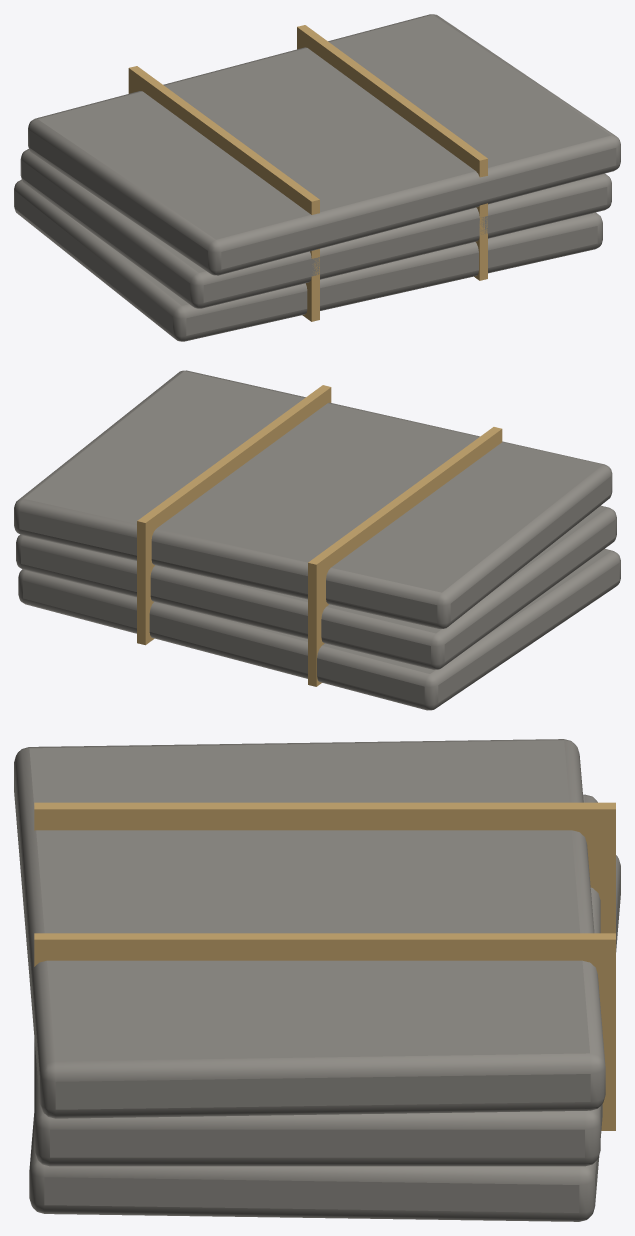
File: item_newspapers.fbx
The picture shows the model from 3 angles, top to bottom: view 1: azimuth 30°, elevation 25°; view 2: azimuth 150°, elevation 25°; view 3: azimuth 270°, elevation 25°; orthographic projection. The views are drawn at different scales.
Visible parts, largest first — view 1: item_newspapers; view 2: item_newspapers; view 3: item_newspapers.
Part boxes in pixels (x1,y1,x2,y2): item_newspapers: (14,14,620,341); item_newspapers: (14,370,620,710); item_newspapers: (14,739,620,1221).
Size of the model in its own units: 0.3151 by 0.082 by 0.2359.
